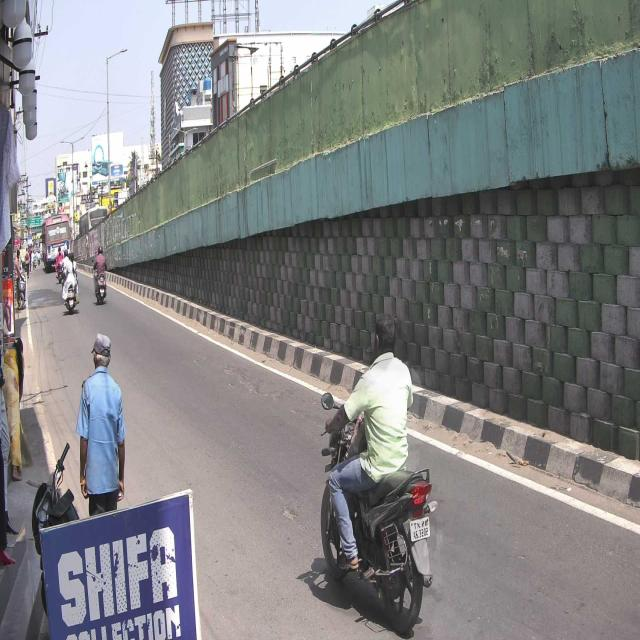single_rider: (318, 311, 437, 632)
